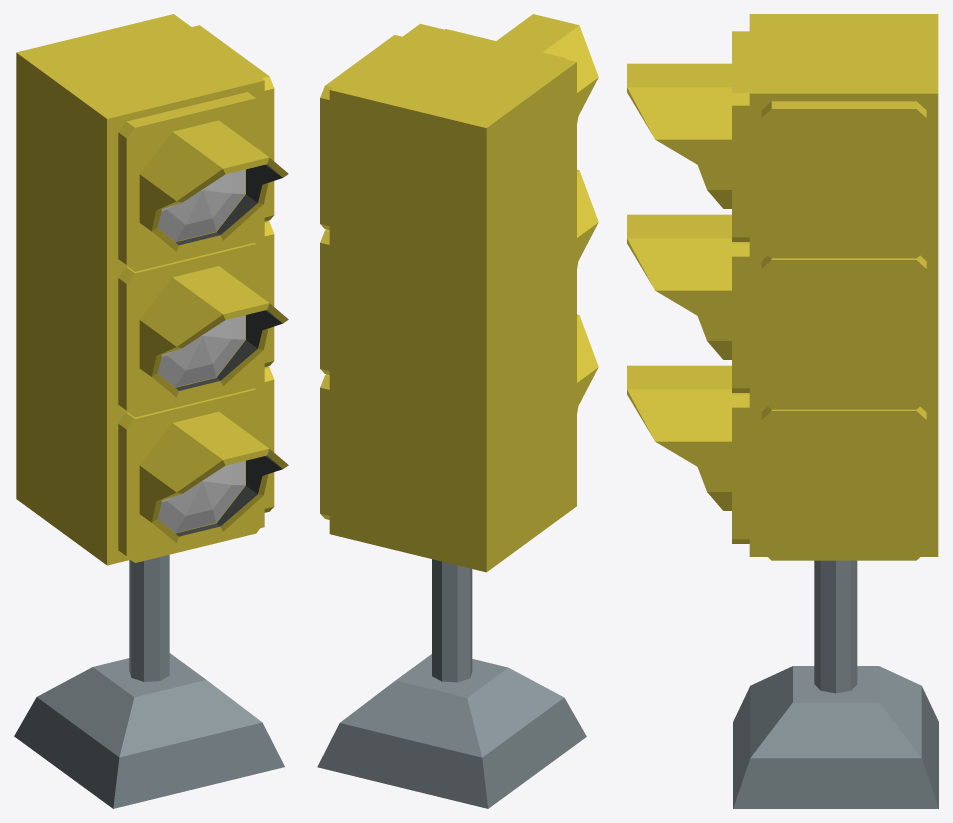
File: 신호등피봇수정.fbx
3 renders of one model, left to right at view 1: azimuth 30°, elevation 25°; view 2: azimuth 150°, elevation 25°; view 3: azimuth 270°, elevation 25°, orthographic. The views are drawn at different scales.
Visible parts, largest first — view 1: Traffic_light_1; view 2: Traffic_light_1; view 3: Traffic_light_1.
Boxes of the visible parts, bbox=[...] form: Traffic_light_1: bbox=[14, 14, 288, 808]; Traffic_light_1: bbox=[317, 14, 598, 808]; Traffic_light_1: bbox=[627, 14, 938, 808].
Size of the model in its own units: 24.02 by 89.7 by 35.78.
4 materials, 1 textured.
